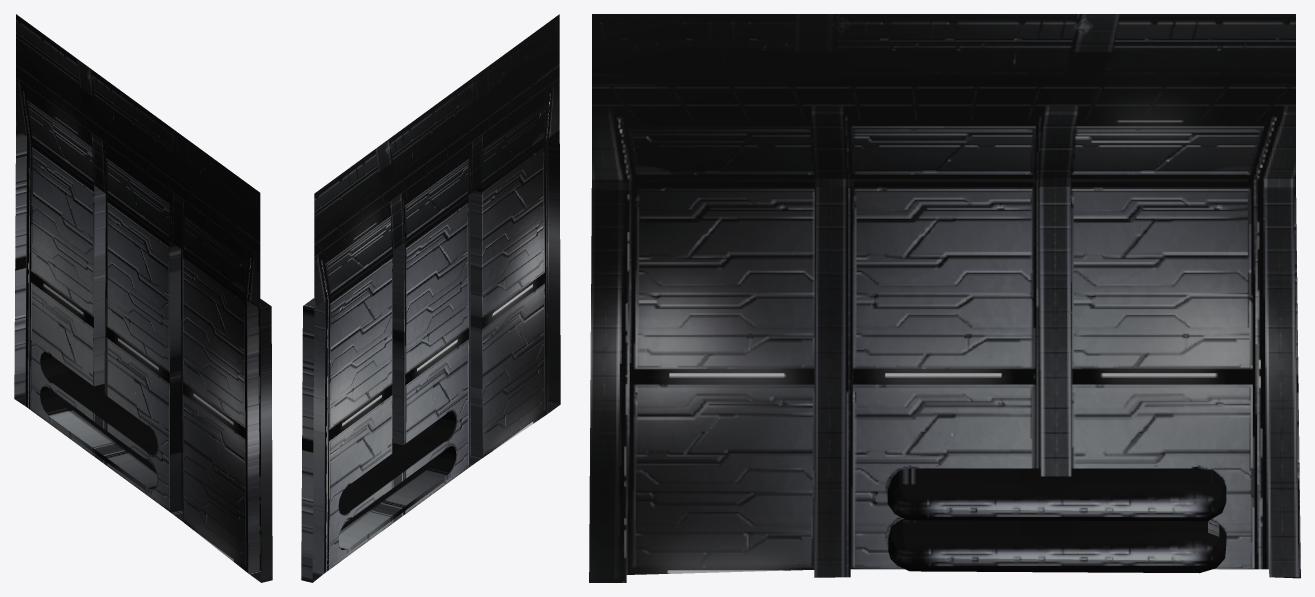
Rendered from wallSegment.fbx.
The picture shows the model from 3 angles, left to right: view 1: azimuth 30°, elevation 25°; view 2: azimuth 150°, elevation 25°; view 3: azimuth 270°, elevation 25°; orthographic projection. The views are drawn at different scales.
Visible parts, largest first — view 1: Wall Segment; view 2: Wall Segment; view 3: Wall Segment.
Boxes of the visible parts, bbox=[...] form: Wall Segment: bbox=[14, 14, 272, 582]; Wall Segment: bbox=[301, 14, 560, 582]; Wall Segment: bbox=[589, 14, 1300, 582].
Size of the model in its own units: 5.53 by 66.7 by 76.68.
